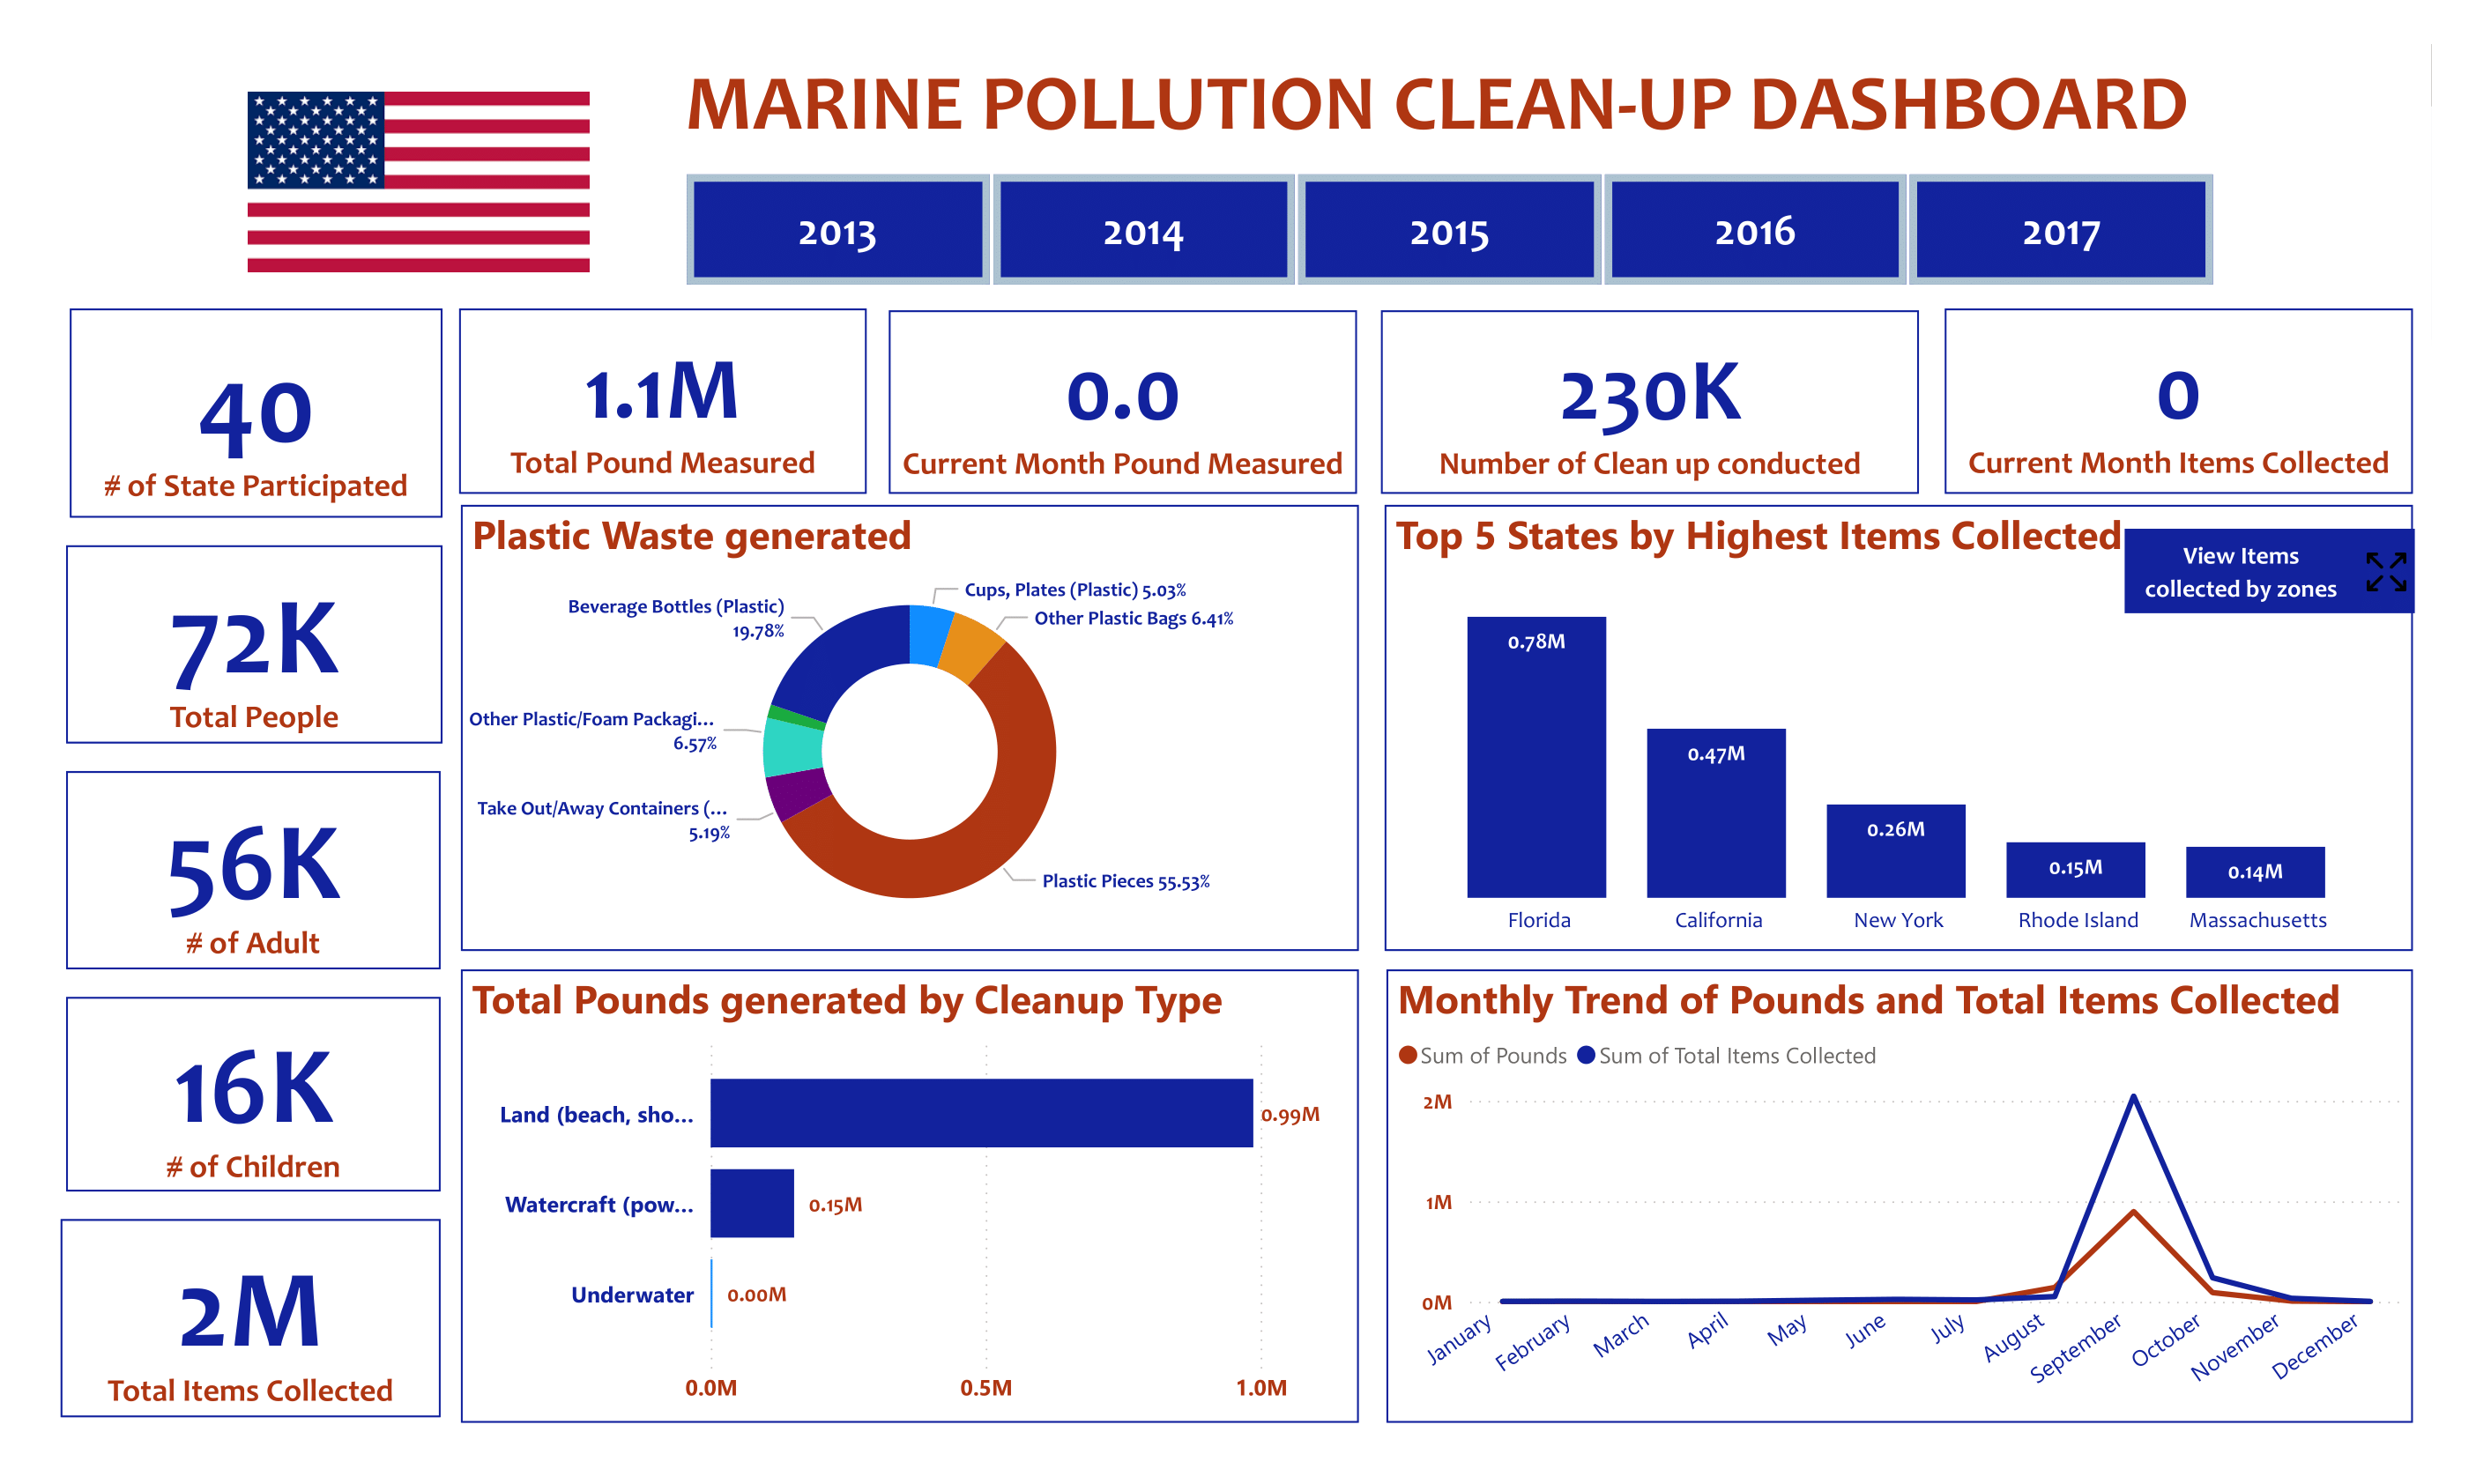

The dashboard page shown, as its layout file describes it:
{"tool":"powerbi","page":{"name":"Main Page","canvas":[1300,760],"ordinal":0},"visuals":[{"type":"textbox","box":[317.7,0,881.6,63.8],"z":0},{"type":"image","box":[1260.2,264.4,30.8,46.2],"z":0,"group":"g1"},{"type":"clusteredColumnChart","title":"Top 5 States by Highest Items Collected","fields":{"Y":["Sum(CleanMPC.Total Items Collected)"],"Category":["CleanMPC.State"]},"box":[729.7,251,559.9,242.8],"z":1000},{"type":"textbox","box":[1132.9,264.5,127.3,46.2],"z":1000,"group":"g1"},{"type":"card","fields":{"Values":["DAX Measures.# of State Participated"]},"box":[13.7,144.4,203.7,114],"z":2000},{"type":"group","id":"g1","title":"Group 1","box":[1132.9,264.4,158.1,46.3],"z":3000},{"type":"card","fields":{"Values":["DAX Measures.Total People"]},"box":[12.2,273.2,205.2,107.9],"z":4000},{"type":"card","fields":{"Values":["DAX Measures.# of Adult"]},"box":[12.2,396,203.7,107.9],"z":5000},{"type":"card","fields":{"Values":["DAX Measures.# of Children"]},"box":[12.2,518.7,203.7,106.4],"z":6000},{"type":"card","fields":{"Values":["DAX Measures.Total Pound Measured"]},"box":[226.5,144.4,221.9,100.3],"z":7000},{"type":"clusteredBarChart","title":"Total Pounds generated by Cleanup Type","fields":{"Category":["CleanMPC.Cleanup Type"],"Y":["Sum(CleanMPC.Pounds)"]},"box":[227.1,504,489.2,247.3],"z":8000},{"type":"card","fields":{"Values":["Sum(CleanMPC.Total Items Collected)"]},"box":[9.1,639.9,206.7,107.9],"z":9000},{"type":"donutChart","title":"Plastic Waste generated ","fields":{"Y":["Sum(CleanMPC.Cups, Plates (Plastic))","Sum(CleanMPC.Other Plastic Bags)","Sum(CleanMPC.Plastic Pieces)","Sum(CleanMPC.Take Out/Away Containers (Plastic))","Sum(CleanMPC.Other Plastic/Foam Packaging)","Sum(CleanMPC.Other Plastic Bottles (oil, bleach, etc.))","Sum(CleanMPC.Beverage Bottles (Plastic))"]},"box":[227,251,488.8,242.8],"z":10000},{"type":"slicer","fields":{"Values":["Calendar.Year"]},"box":[323.8,63.8,881.6,74.5],"z":11000},{"type":"lineChart","title":"Monthly Trend of Pounds and Total Items Collected","fields":{"Y":["Sum(CleanMPC.Pounds)","Sum(CleanMPC.Total Items Collected)"],"Category":["Calendar.Month"]},"box":[731.1,504,559,247.3],"z":12000},{"type":"card","fields":{"Values":["DAX Measures.Number of CLean up conducted"]},"box":[728.4,145.1,293,99.4],"z":13000},{"type":"card","fields":{"Values":["DAX Measures.Current Month Items Collected"]},"box":[1034.8,143.8,255.3,100.8],"z":14000},{"type":"card","fields":{"Values":["DAX Measures.Current Month Pound Measured"]},"box":[459.6,145.1,255.3,99.4],"z":15000},{"type":"image","box":[89.7,21.3,228,107.9],"z":16000}]}

Visuals, with their boxes on the page's 1300x760 design canvas (x1, y1, x2, y2). These are canvas units, not pixel positions in the 2476x1484 screenshot, which may show the page scaled, cropped or inside an application window:
textbox: 318 0 1199 64
image: 1260 264 1291 311
"Top 5 States by Highest Items Collected" clusteredColumnChart: 730 251 1290 494
textbox: 1133 264 1260 311
card - DAX Measures.# of State Participated: 14 144 217 258
"Group 1" group: 1133 264 1291 311
card - DAX Measures.Total People: 12 273 217 381
card - DAX Measures.# of Adult: 12 396 216 504
card - DAX Measures.# of Children: 12 519 216 625
card - DAX Measures.Total Pound Measured: 226 144 448 245
"Total Pounds generated by Cleanup Type" clusteredBarChart: 227 504 716 751
card - Sum(CleanMPC.Total Items Collected): 9 640 216 748
"Plastic Waste generated " donutChart: 227 251 716 494
slicer - Calendar.Year: 324 64 1205 138
"Monthly Trend of Pounds and Total Items Collected" lineChart: 731 504 1290 751
card - DAX Measures.Number of CLean up conducted: 728 145 1021 244
card - DAX Measures.Current Month Items Collected: 1035 144 1290 245
card - DAX Measures.Current Month Pound Measured: 460 145 715 244
image: 90 21 318 129
